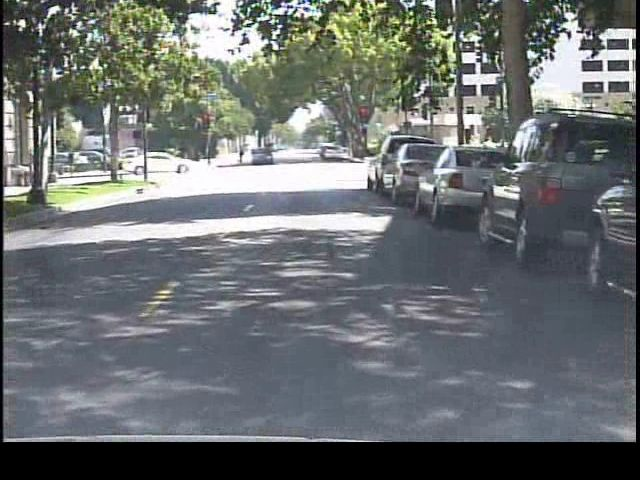person: (237, 141, 251, 166)
